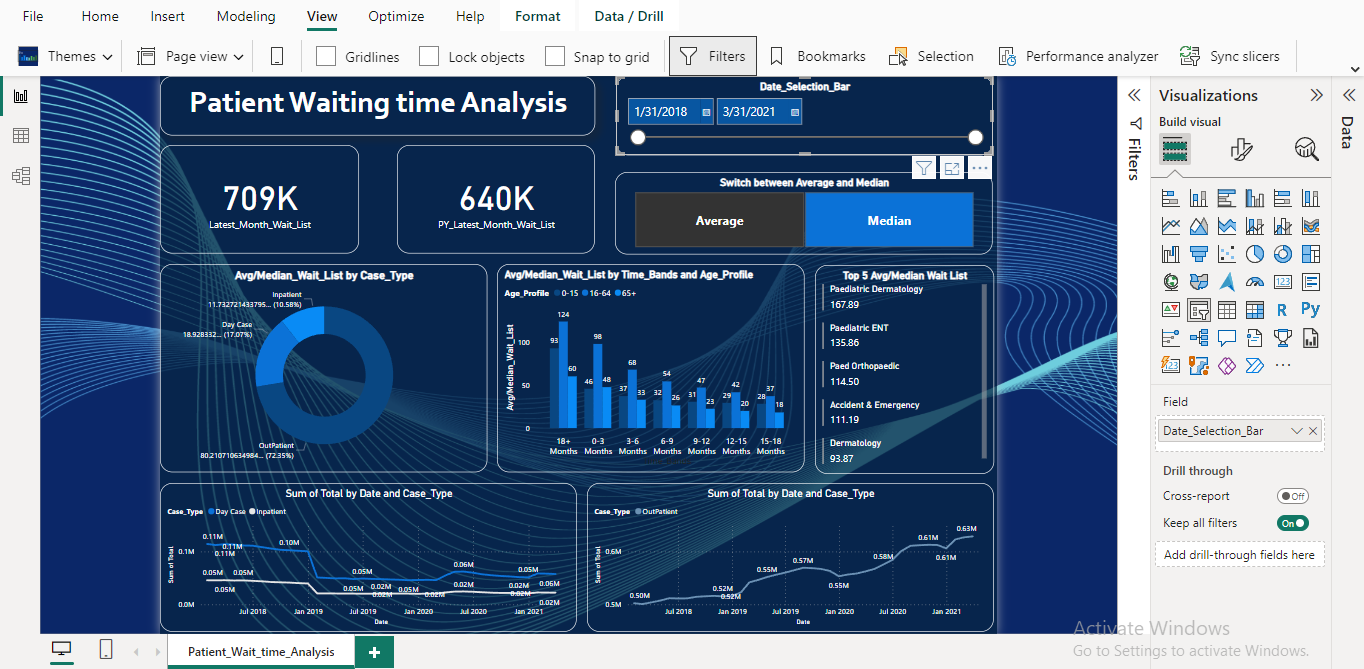

Layout of this report page (visuals, bound fields, positions):
{"tool":"powerbi","page":{"name":"Page 1","canvas":[1350,900],"ordinal":0},"visuals":[{"type":"card","fields":{"Values":["Key_Measures.Latest_Month_Wait_List"]},"box":[0,111.6,320.7,175.4],"z":0},{"type":"card","fields":{"Values":["Key_Measures.PY_Latest_Month_Wait_List"]},"box":[382.7,111.6,318.9,175.4],"z":1000},{"type":"slicer","title":"Switch between Average and Median","fields":{"Values":["Calculation Method.Calc Method"]},"box":[733.5,175.4,609.4,111.6],"z":2000},{"type":"donutChart","fields":{"Category":["All_Data.Case_Type"],"Y":["Key_Measures.Avg/Median"]},"box":[0,304,528,336],"z":3000},{"type":"clusteredColumnChart","fields":{"Y":["Key_Measures.Avg/Median"],"Category":["All_Data.Time_Bands"],"Series":["All_Data.Age_Profile"]},"box":[544,304,496,336],"z":3001},{"type":"multiRowCard","title":"Top 5 Avg/Median Wait List ","fields":{"Values":["Key_Measures.Avg/Median","All_Data.Specialty_Name"]},"box":[1055.9,304.7,288.8,336.6],"z":3002},{"type":"lineChart","fields":{"Y":["Sum(All_Data.Total)"],"Series":["All_Data.Case_Type"],"Category":["All_Data.Date"]},"box":[0,656,672,240],"z":3003},{"type":"lineChart","fields":{"Y":["Sum(All_Data.Total)"],"Series":["All_Data.Case_Type"],"Category":["All_Data.Date"]},"box":[688,656,656,240],"z":3004},{"type":"slicer","title":"Date_Selection_Bar","fields":{"Values":["All_Data.Date"]},"box":[736,0,608,128],"z":3005},{"type":"textbox","box":[0,0,701.6,95.7],"z":3006}]}

Visuals, with their boxes on the page's 1350x900 design canvas (x1, y1, x2, y2). These are canvas units, not pixel positions in the 1364x669 screenshot, which may show the page scaled, cropped or inside an application window:
card - Key_Measures.Latest_Month_Wait_List: [0, 112, 321, 287]
card - Key_Measures.PY_Latest_Month_Wait_List: [383, 112, 702, 287]
"Switch between Average and Median" slicer: [734, 175, 1343, 287]
donutChart - All_Data.Case_Type x Key_Measures.Avg/Median: [0, 304, 528, 640]
clusteredColumnChart - Key_Measures.Avg/Median x All_Data.Time_Bands: [544, 304, 1040, 640]
"Top 5 Avg/Median Wait List " multiRowCard: [1056, 305, 1345, 641]
lineChart - Sum(All_Data.Total) x All_Data.Case_Type: [0, 656, 672, 896]
lineChart - Sum(All_Data.Total) x All_Data.Case_Type: [688, 656, 1344, 896]
"Date_Selection_Bar" slicer: [736, 0, 1344, 128]
textbox: [0, 0, 702, 96]
